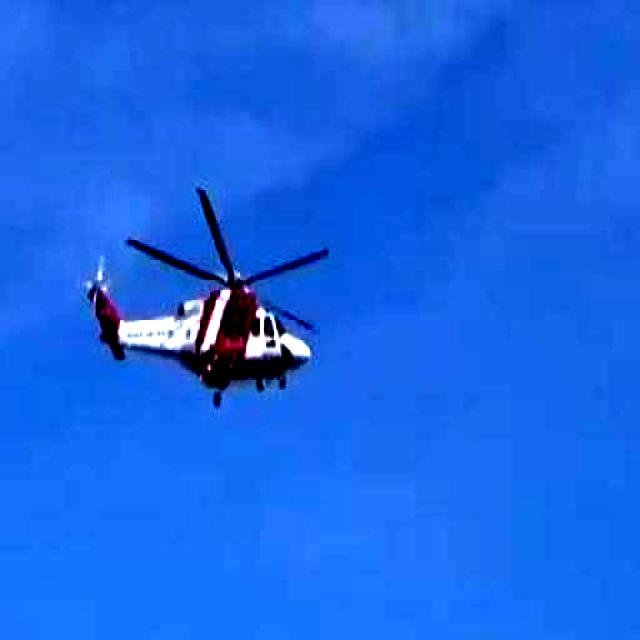drone: (75, 170, 371, 424)
